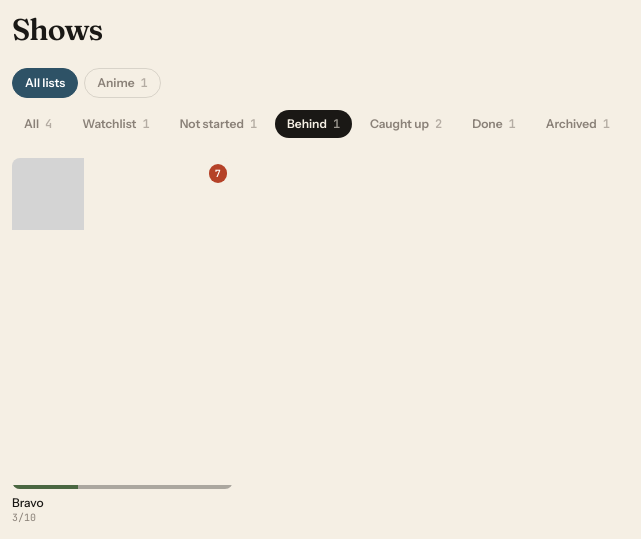
Test: ShowsLibrary › Archived shows only archived series
Click the button "Archived1".
click(578, 124)  # box [534,110,622,138]
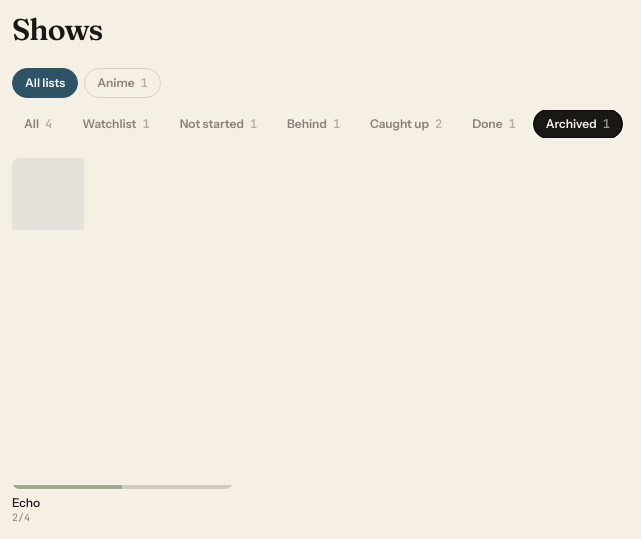
Expected: the text "Echo" is shown, [12,495,40,510]
